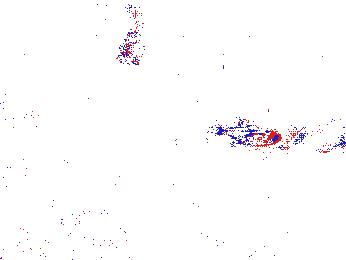X-ray fish: (55, 84, 107, 129), (114, 21, 148, 67)
red belly glassfish: (214, 121, 282, 149)
redtail glassfish: (288, 115, 346, 154), (79, 1, 148, 23)
